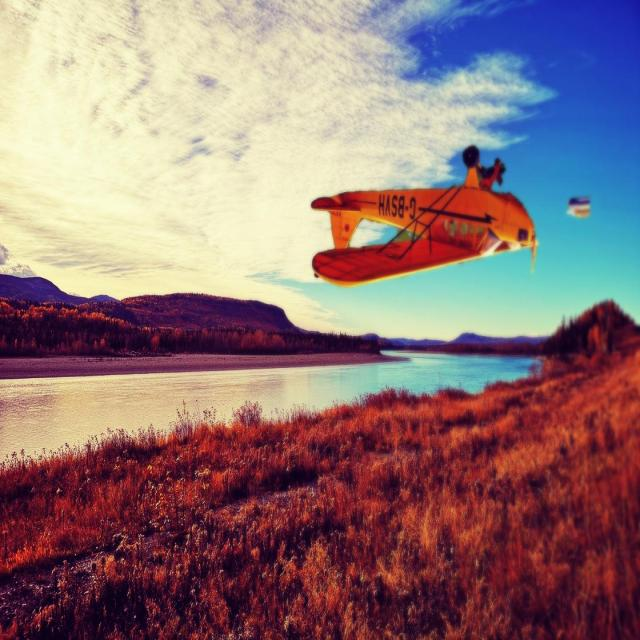airplane: (310, 143, 538, 287)
